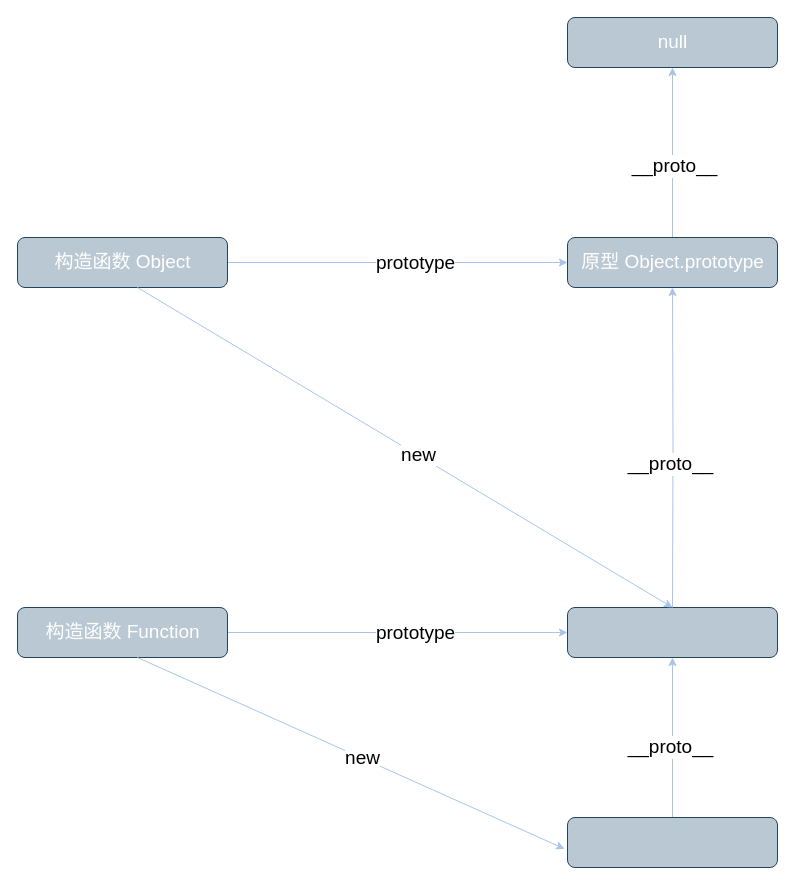
The diagram is 795 pixels wide and 885 high, and some of its shapes have lost their labels. Each missing label, with the centre of its shape:
"原型 Function.prototype" goes at point 672,632.
"实例 Person" goes at point 672,842.
